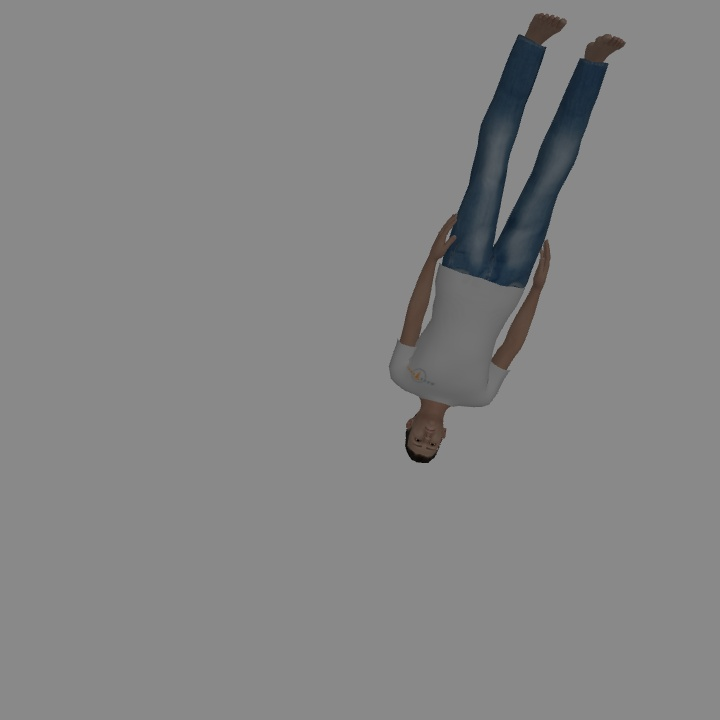victim: (394, 24, 623, 461)
